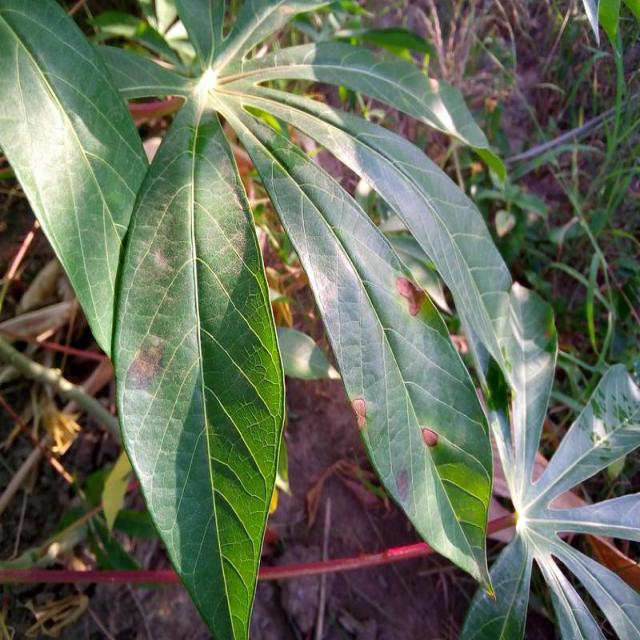cassava leaf: (218, 90, 498, 600), (110, 94, 287, 638), (0, 0, 150, 360)
